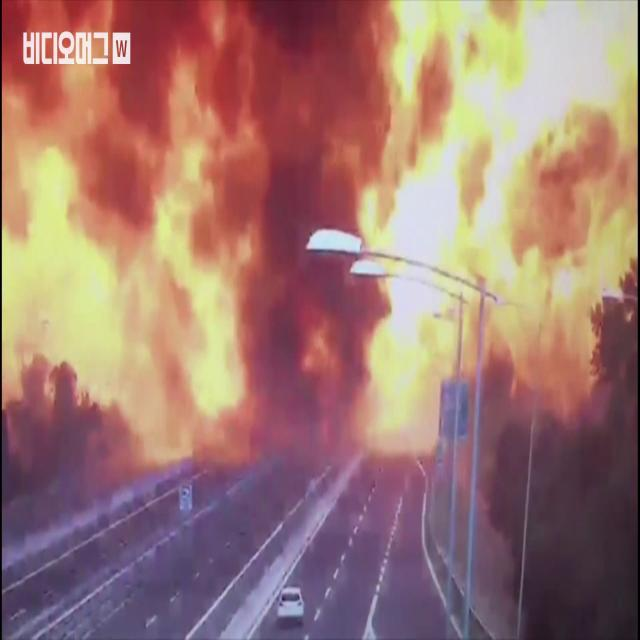explosion: (6, 0, 640, 532)
